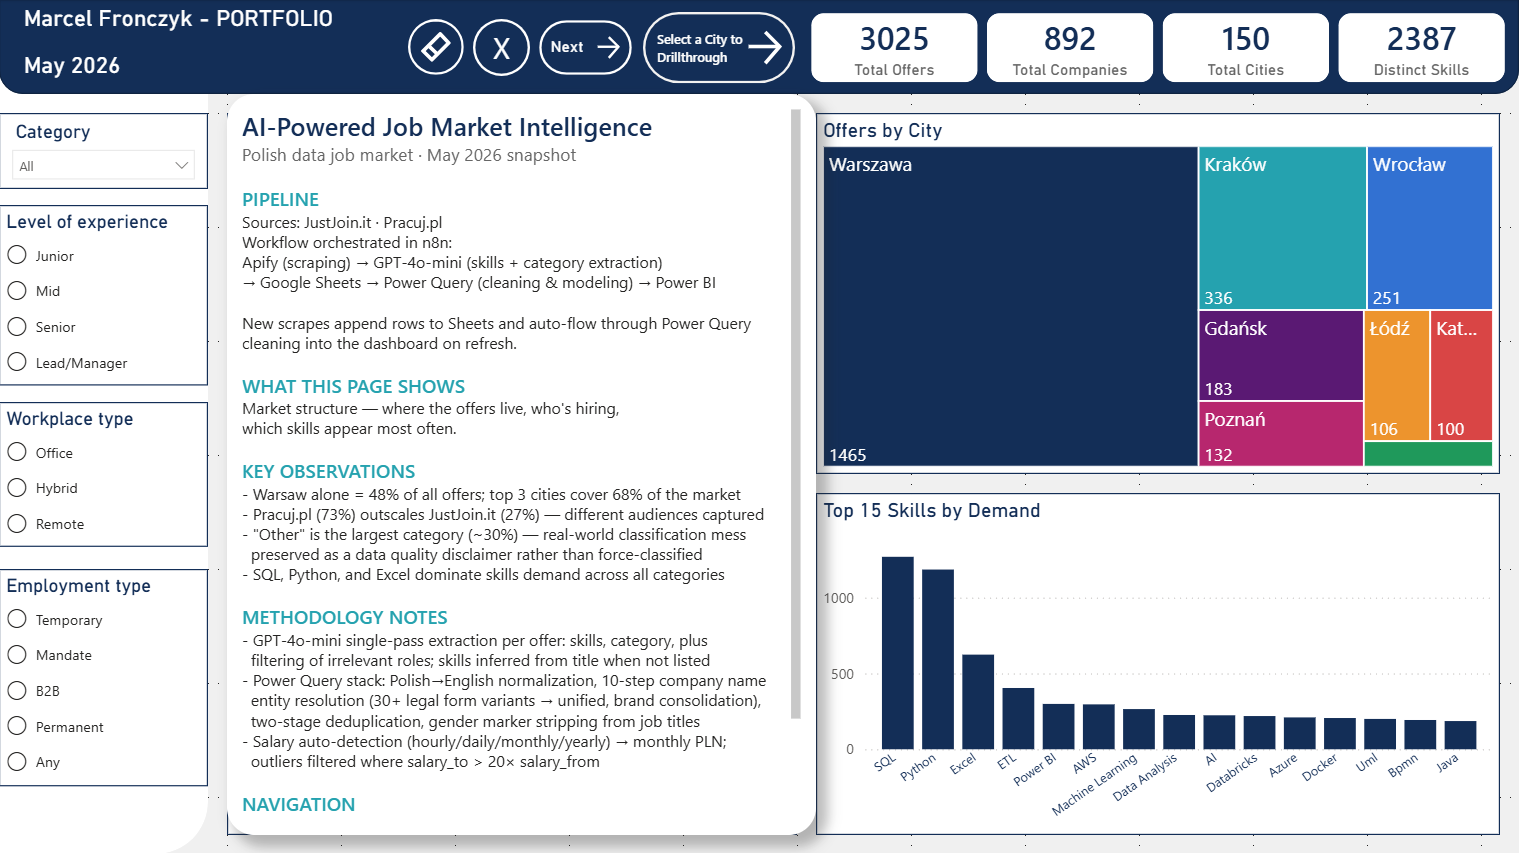

Layout of this report page (visuals, bound fields, positions):
{"tool":"powerbi","page":{"name":"Offers","canvas":[1280,720],"ordinal":0},"visuals":[{"type":"shape","title":"Slicer Tab","box":[0,0,176,720],"z":0},{"type":"shape","title":"Header","box":[0,0,1280,80],"z":1000},{"type":"textbox","box":[16,0,320,96],"z":2000},{"type":"columnChart","title":"Total Offers by Category and Workplace Type","fields":{"Y":["Offers.Offers Total"],"Category":["Offers.category"],"Series":["Offers.workplace_type"]},"box":[192,96,480,304],"z":3000},{"type":"donutChart","fields":{"Category":["Offers.Source"],"Y":["Offers.Offers Total"]},"box":[192,416,480,288],"z":4000},{"type":"columnChart","title":"Top 15 Skills by Demand","fields":{"Y":["OfferSkills.Skill demand"],"Category":["OfferSkills.skills"]},"box":[688,416,576,288],"z":5000},{"type":"listSlicer","title":"Level of experience","fields":{"Values":["Offers.experience_level"]},"box":[0,173.7,176,152],"z":6000},{"type":"listSlicer","title":"Workplace type","fields":{"Values":["Offers.workplace_type"]},"box":[0,339.3,176,122],"z":7000},{"type":"treemap","title":"Offers by City","fields":{"Group":["Offers.city"],"Values":["Offers.Offers Total"]},"box":[688,96,576,304],"z":8000},{"type":"slicer","title":"Category Slicer","fields":{"Values":["Offers.category"]},"box":[0,96,176,64],"z":9000},{"type":"listSlicer","title":"Employment type","fields":{"Values":["Offers.employment_type"]},"box":[0,480,176,183],"z":10000},{"type":"cardVisual","title":"KPIs","fields":{"Data":["Offers.Total Offers","Offers.Total Companies","Offers.Total Cities","OfferSkills.Skills Distinct Count"]},"box":[672,0,608,82],"z":11000},{"type":"slicer","fields":{"Values":["_donut Dimension._donut Dimension"]},"box":[512,416,160,43],"z":12000},{"type":"actionButton","title":"Reset Slicers","box":[344,17,47,47],"z":13000},{"type":"actionButton","title":"Drillthrough Button","box":[542,11,128,60],"z":14000},{"type":"actionButton","title":"Next Page","box":[454,17,80,48],"z":15000},{"type":"actionButton","title":"Expand Explanation","box":[399,17,47,47],"z":17000}]}

Visuals, with their boxes on the page's 1280x720 design canvas (x1, y1, x2, y2). These are canvas units, not pixel positions in the 1519x853 screenshot, which may show the page scaled, cropped or inside an application window:
"Slicer Tab" shape: box(0, 0, 176, 720)
"Header" shape: box(0, 0, 1280, 80)
textbox: box(16, 0, 336, 96)
"Total Offers by Category and Workplace Type" columnChart: box(192, 96, 672, 400)
donutChart - Offers.Source x Offers.Offers Total: box(192, 416, 672, 704)
"Top 15 Skills by Demand" columnChart: box(688, 416, 1264, 704)
"Level of experience" listSlicer: box(0, 174, 176, 326)
"Workplace type" listSlicer: box(0, 339, 176, 461)
"Offers by City" treemap: box(688, 96, 1264, 400)
"Category Slicer" slicer: box(0, 96, 176, 160)
"Employment type" listSlicer: box(0, 480, 176, 663)
"KPIs" cardVisual: box(672, 0, 1280, 82)
slicer - _donut Dimension._donut Dimension: box(512, 416, 672, 459)
"Reset Slicers" actionButton: box(344, 17, 391, 64)
"Drillthrough Button" actionButton: box(542, 11, 670, 71)
"Next Page" actionButton: box(454, 17, 534, 65)
"Expand Explanation" actionButton: box(399, 17, 446, 64)
